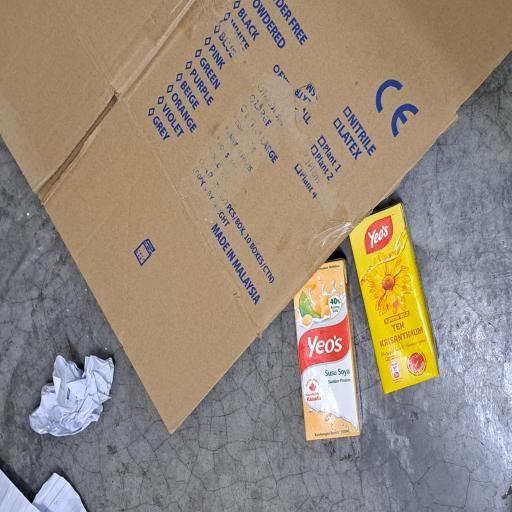cardboard: (58, 0, 384, 512)
drink carton: (53, 391, 190, 483), (87, 465, 232, 512)
paper: (55, 37, 121, 154), (0, 0, 32, 115)
